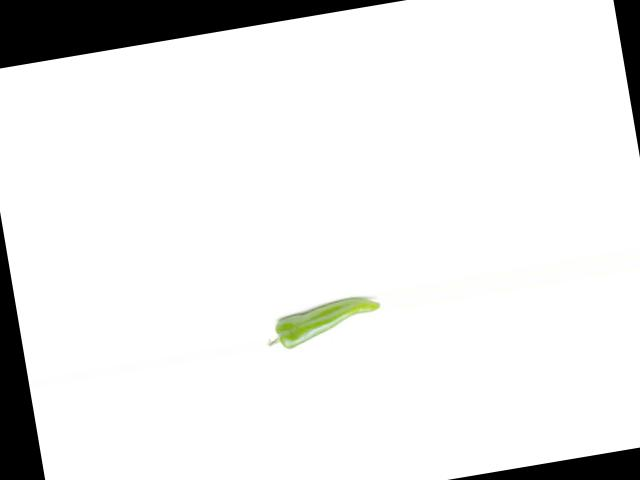bell_pepper: (257, 290, 385, 355)
